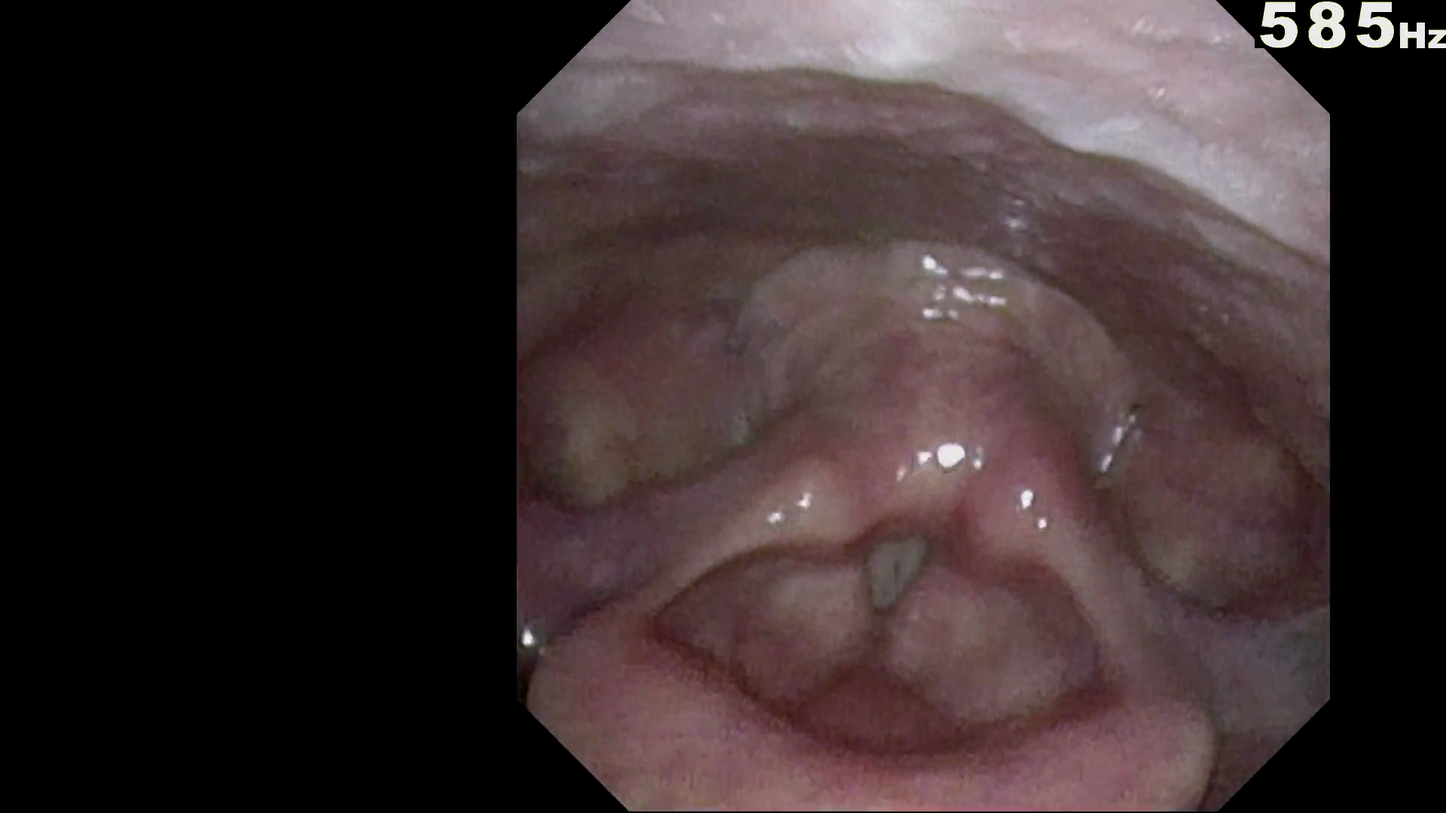epiglottis: (597, 508, 1202, 789)
trachea: (837, 506, 952, 644)
